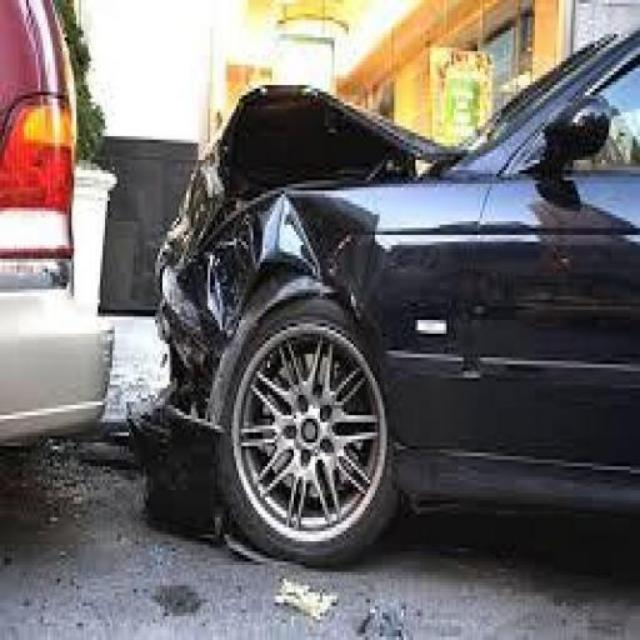crash: (154, 82, 465, 434)
